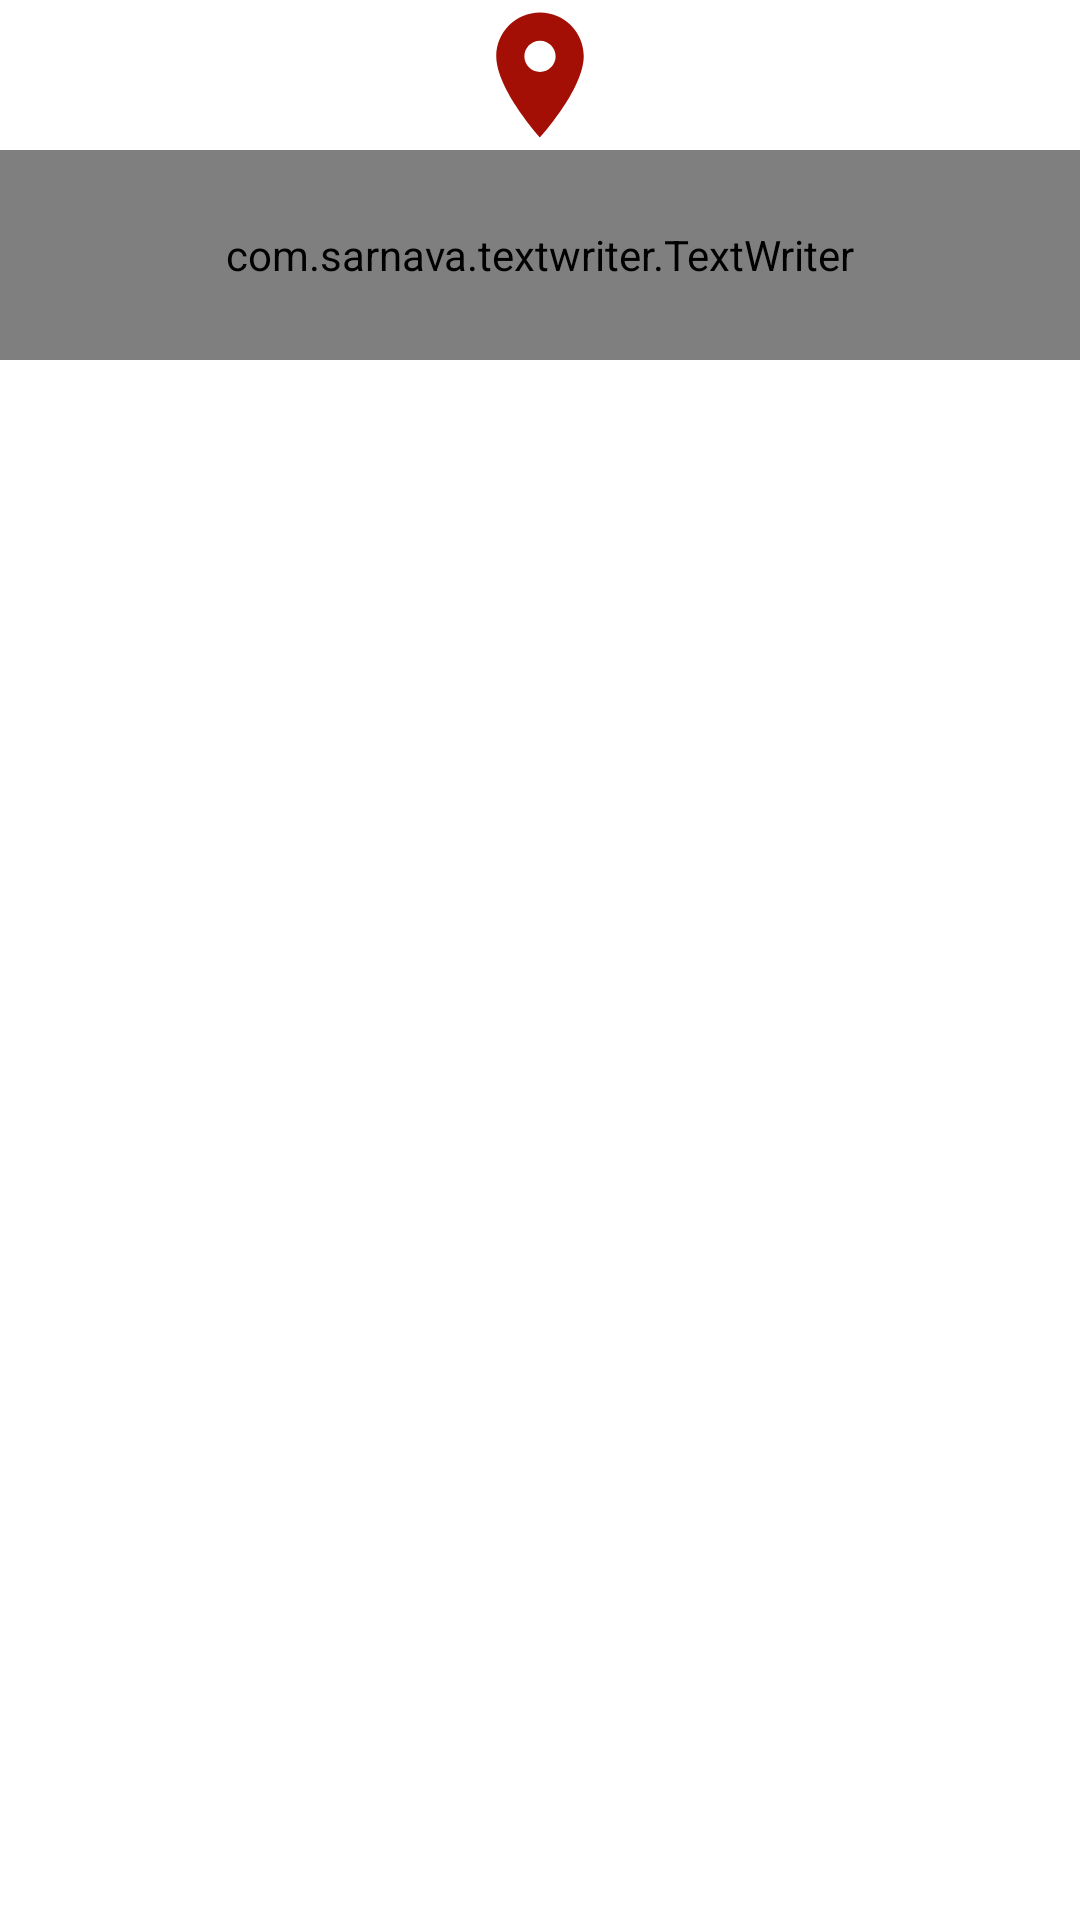

Point at icon controls on the screen. Image size 1080 x 1920, points as [x,y].
pin: [540,75]
